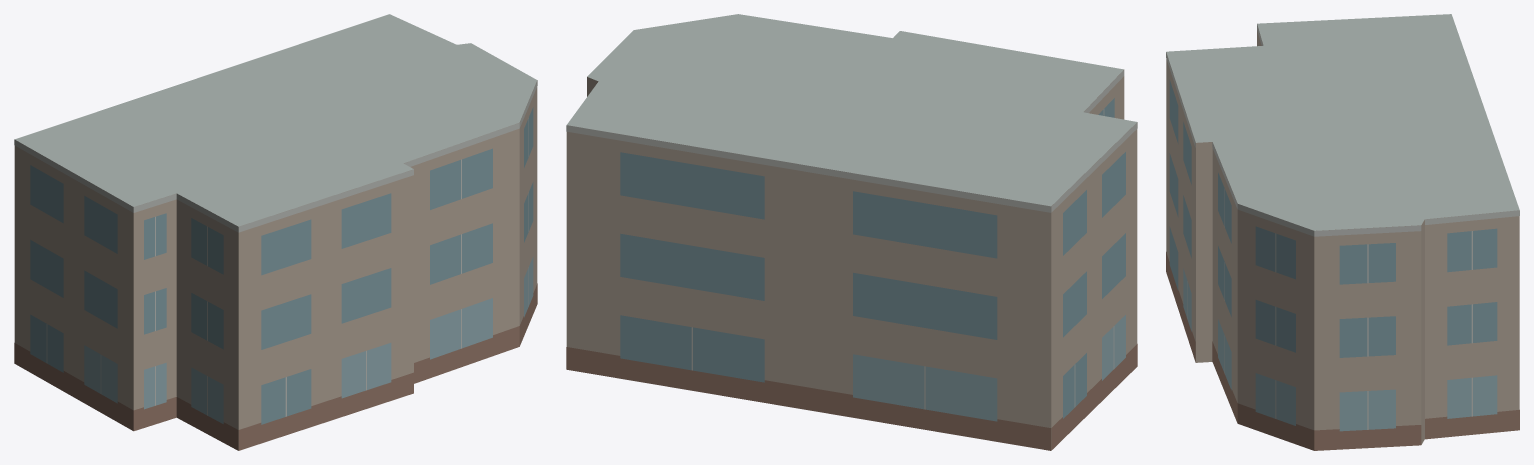
Rendered from survey-upis-32676062.glb.
3 views of the same model, side by side, from view 1: azimuth 30°, elevation 25°; view 2: azimuth 150°, elevation 25°; view 3: azimuth 270°, elevation 25° (orthographic). The views are drawn at different scales.
Visible parts, largest first — view 1: survey-upis-32676062.tmp; view 2: survey-upis-32676062.tmp; view 3: survey-upis-32676062.tmp.
Boxes of the visible parts, box(x1,y1,x2,y2) form: survey-upis-32676062.tmp: box(14, 14, 537, 450); survey-upis-32676062.tmp: box(566, 14, 1137, 450); survey-upis-32676062.tmp: box(1166, 14, 1519, 450).
Size of the model in its own units: 19.35 by 9.15 by 13.34.
